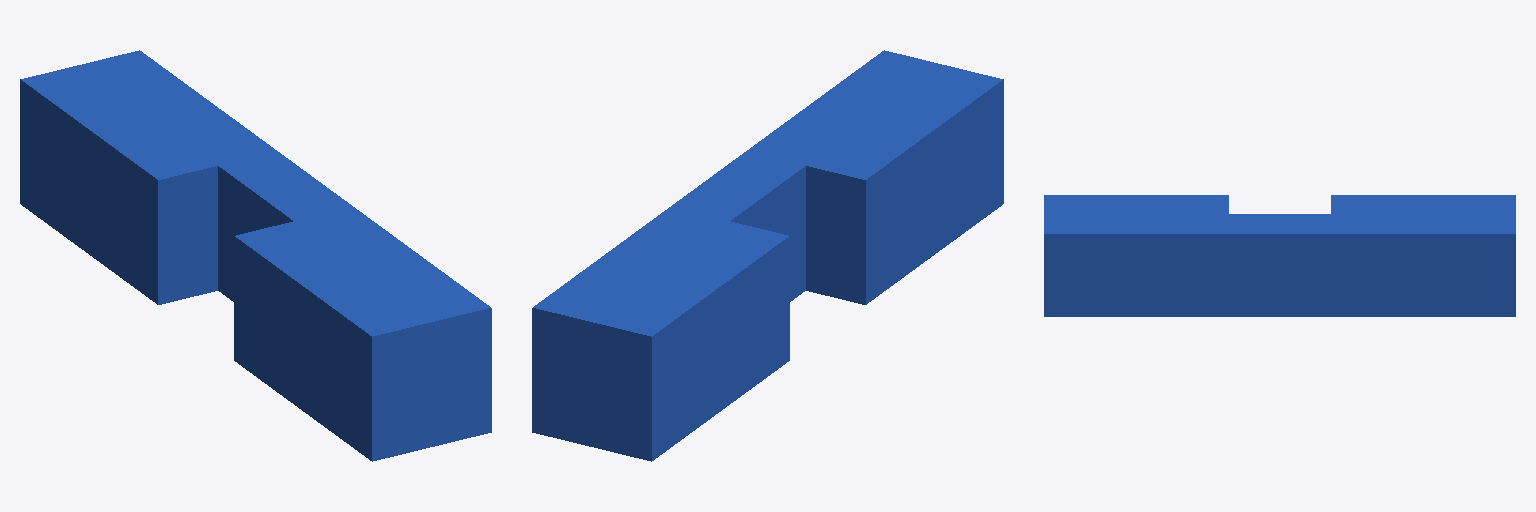
URDF robot description (obj_10):
<robot name="obj_10" version="1.0">
  <link name="obj_10">
    <collision name="medium-piece-6-collision.001">
      <origin rpy="0.00000 0.00000 0.00000" xyz="0.00000 0.00000 0.00000"/>
      <geometry>
        <mesh filename="../meshes/obj/medium-piece-6-collision.001.obj" scale="1.00000 1.00000 1.00000"/>
      </geometry>
    </collision>
    <collision name="medium-piece-6-collision.002">
      <origin rpy="0.00000 0.00000 0.00000" xyz="0.00000 0.00000 0.00000"/>
      <geometry>
        <mesh filename="../meshes/obj/medium-piece-6-collision.002.obj" scale="1.00000 1.00000 1.00000"/>
      </geometry>
    </collision>
    <collision name="medium-piece-6-collision.003">
      <origin rpy="0.00000 0.00000 0.00000" xyz="0.00000 0.00000 0.00000"/>
      <geometry>
        <mesh filename="../meshes/obj/medium-piece-6-collision.003.obj" scale="1.00000 1.00000 1.00000"/>
      </geometry>
    </collision>
    <inertial>
      <inertia ixx="0.00002" ixy="0.00000" ixz="0.00000" iyy="0.00000" iyz="0.00000" izz="0.00002"/>
      <origin rpy="0.00000 0.00000 0.00000" xyz="-0.20492 0.18862 0.12954"/>
      <mass value="0.00400"/>
    </inertial>
    <visual name="medium-piece-6">
      <material name="turnarrow"/>
      <origin rpy="1.57080 0.00000 -1.57080" xyz="-0.21268 0.18862 0.12954"/>
      <geometry>
        <mesh filename="../meshes/obj/medium-piece.obj" scale="0.00500 0.00500 0.00500"/>
      </geometry>
    </visual>
  </link>
  <material name="turnarrow">
    <color rgba="0.23137 0.44706 0.80000 1.00000"/>
  </material>
</robot>

--- Facts derived from the render (not from the file) ---
3 views of the same robot in one strip: view 1: azimuth 30°, elevation 25°; view 2: azimuth 150°, elevation 25°; view 3: azimuth 270°, elevation 25° (orthographic).
Robot: obj_10 — 1 links, 0 joints (none); root link obj_10; default pose: all joints at 0.
Visible links, largest first — view 1: obj_10; view 2: obj_10; view 3: obj_10.
Link boxes in pixels (left/top/right/bottom): obj_10: left=20, top=50, right=491, bottom=461; obj_10: left=532, top=50, right=1003, bottom=461; obj_10: left=1044, top=195, right=1515, bottom=316.
Bounding box of the posed robot: 0.05 × 0.255 × 0.05 m (x, y, z).
1 mesh visuals loaded from 1 distinct referenced files (1 OBJ).